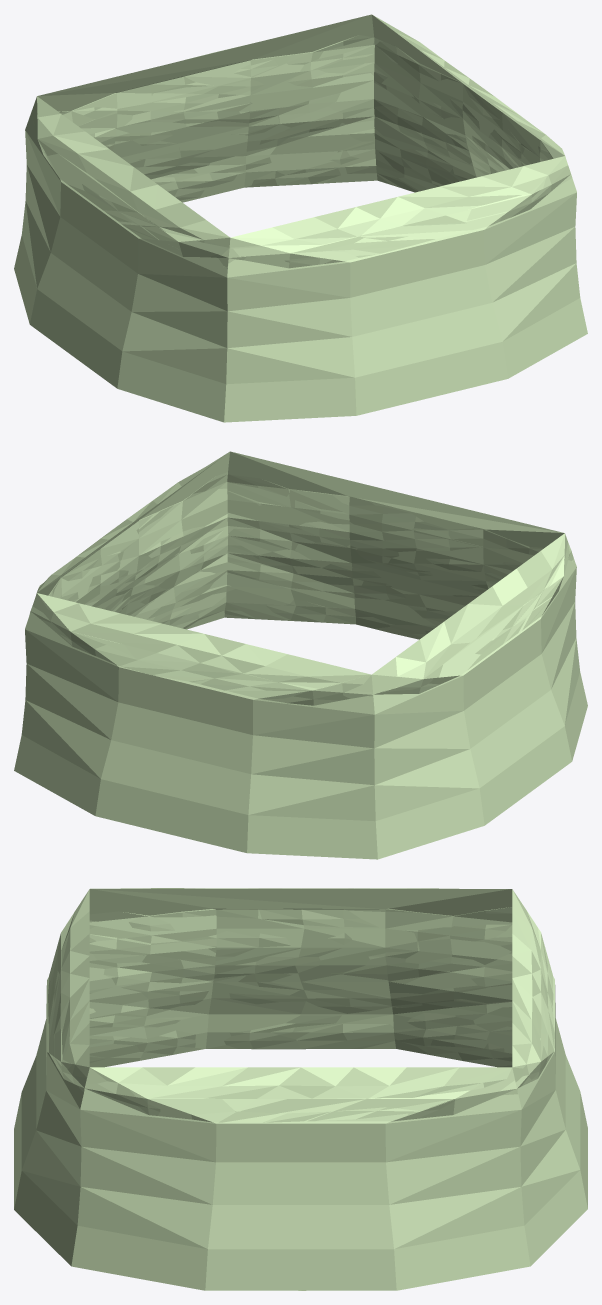
Rendered from NarrowBottomLand.fbx.
The picture shows the model from 3 angles, top to bottom: view 1: azimuth 30°, elevation 25°; view 2: azimuth 150°, elevation 25°; view 3: azimuth 270°, elevation 25°; orthographic projection. The views are drawn at different scales.
Parts seen in each view (by area): view 1: NarrowBottomLand_4, NarrowBottomLand_1, NarrowBottomLand_2, NarrowBottomLand_3; view 2: NarrowBottomLand_4, NarrowBottomLand_1, NarrowBottomLand_2, NarrowBottomLand_3; view 3: NarrowBottomLand_4, NarrowBottomLand_1, NarrowBottomLand_2, NarrowBottomLand_3.
Part boxes in pixels (x1,y1,x2,y2): NarrowBottomLand_4: [14, 113, 587, 422]; NarrowBottomLand_1: [33, 15, 571, 268]; NarrowBottomLand_2: [31, 37, 564, 268]; NarrowBottomLand_3: [37, 14, 564, 158]; NarrowBottomLand_4: [14, 559, 587, 859]; NarrowBottomLand_1: [30, 467, 573, 705]; NarrowBottomLand_2: [32, 452, 569, 700]; NarrowBottomLand_3: [37, 451, 564, 595]; NarrowBottomLand_4: [14, 976, 587, 1290]; NarrowBottomLand_1: [48, 888, 554, 1290]; NarrowBottomLand_2: [49, 904, 552, 1121]; NarrowBottomLand_3: [89, 889, 512, 915].
Size of the model in its own units: 67.92 by 67.92 by 25.09.
